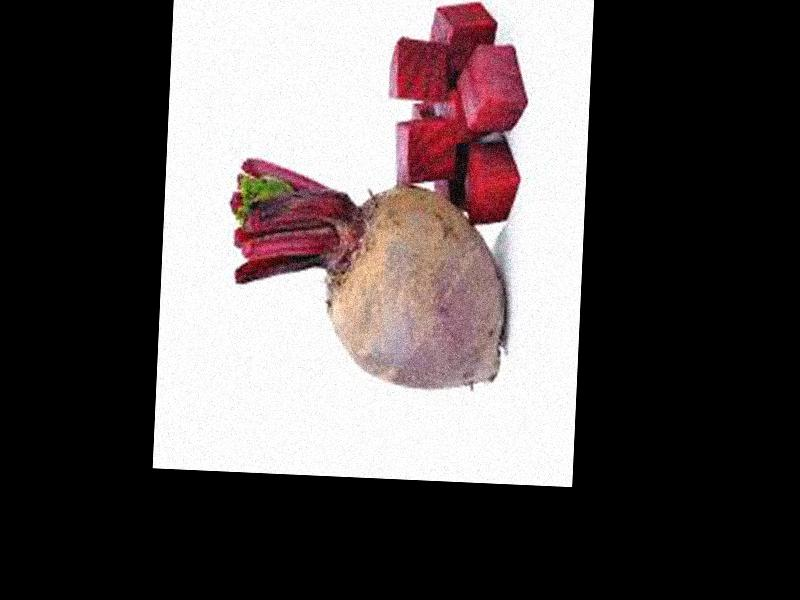Beet: (224, 158, 513, 391)
